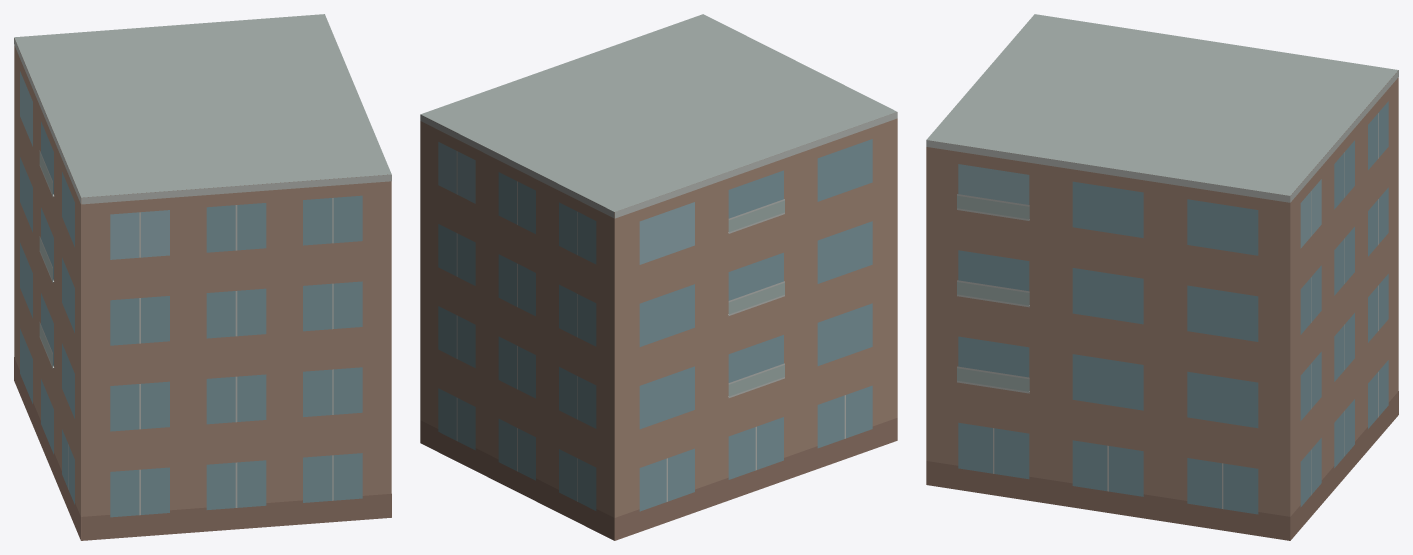
The model's file is residential-1c6f9f2d-82d6-4b8b-b8ae-d1b17ffa525f.glb.
The picture shows the model from 3 angles, left to right: view 1: azimuth 30°, elevation 25°; view 2: azimuth 150°, elevation 25°; view 3: azimuth 270°, elevation 25°; orthographic projection. The views are drawn at different scales.
Parts seen in each view (by area): view 1: residential-1c6f9f2d-82d6-4b8b-b8ae-d1b17ffa525f.tmp; view 2: residential-1c6f9f2d-82d6-4b8b-b8ae-d1b17ffa525f.tmp; view 3: residential-1c6f9f2d-82d6-4b8b-b8ae-d1b17ffa525f.tmp.
Boxes of the visible parts, x1=… form: residential-1c6f9f2d-82d6-4b8b-b8ae-d1b17ffa525f.tmp: x1=14, y1=14, x2=391, y2=540; residential-1c6f9f2d-82d6-4b8b-b8ae-d1b17ffa525f.tmp: x1=420, y1=14, x2=897, y2=540; residential-1c6f9f2d-82d6-4b8b-b8ae-d1b17ffa525f.tmp: x1=926, y1=14, x2=1398, y2=540.
Bounding box in the file's own units: 13.81 × 12.2 × 15.15.
